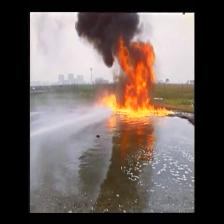fire: (119, 46, 155, 115)
smoke: (79, 14, 142, 42)
